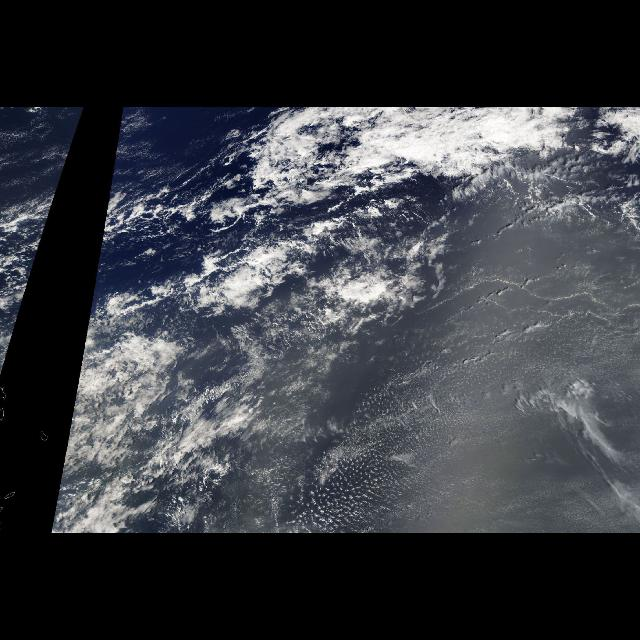Fish: (88, 112, 482, 360)
Sugar: (306, 374, 536, 530), (110, 111, 216, 187), (2, 111, 86, 187)
